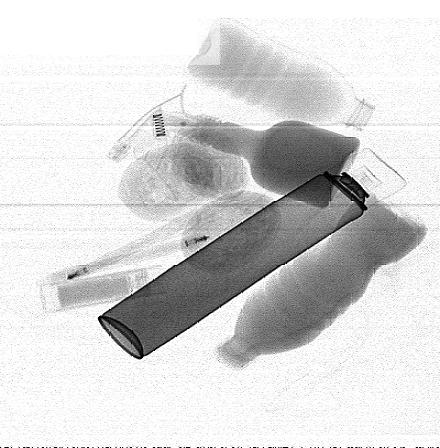Sprayer: (96, 148, 408, 360)
